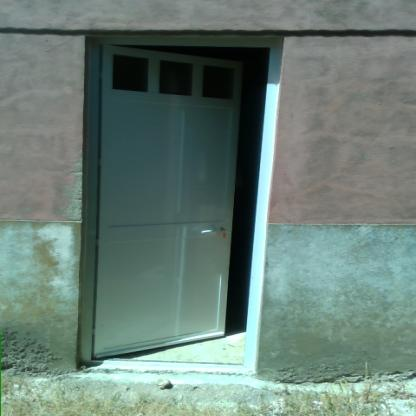semi: (75, 22, 289, 394)
